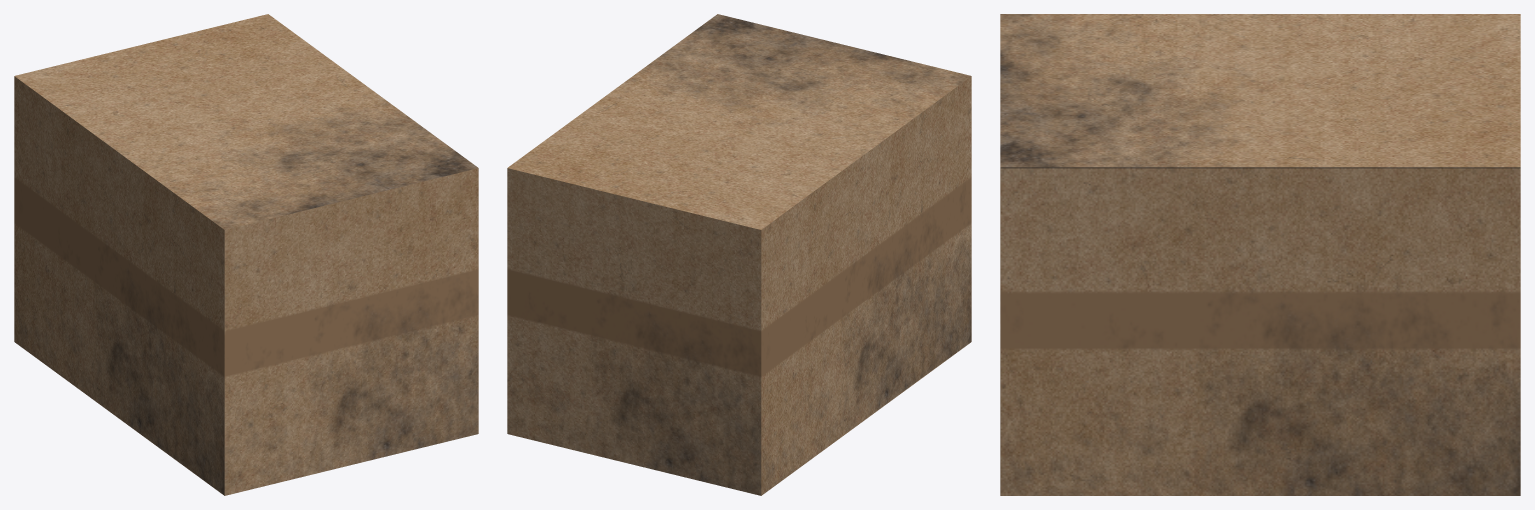
Rendered from BoxClosed.fbx.
3 views of the same model, side by side, from view 1: azimuth 30°, elevation 25°; view 2: azimuth 150°, elevation 25°; view 3: azimuth 270°, elevation 25° (orthographic). The views are drawn at different scales.
Visible parts, largest first — view 1: Closed; view 2: Closed; view 3: Closed.
Boxes of the visible parts, bbox=[...] form: Closed: bbox=[14, 14, 478, 495]; Closed: bbox=[507, 14, 971, 495]; Closed: bbox=[1000, 14, 1520, 495].
Size of the model in its own units: 28.43 by 28.43 by 40.79.
